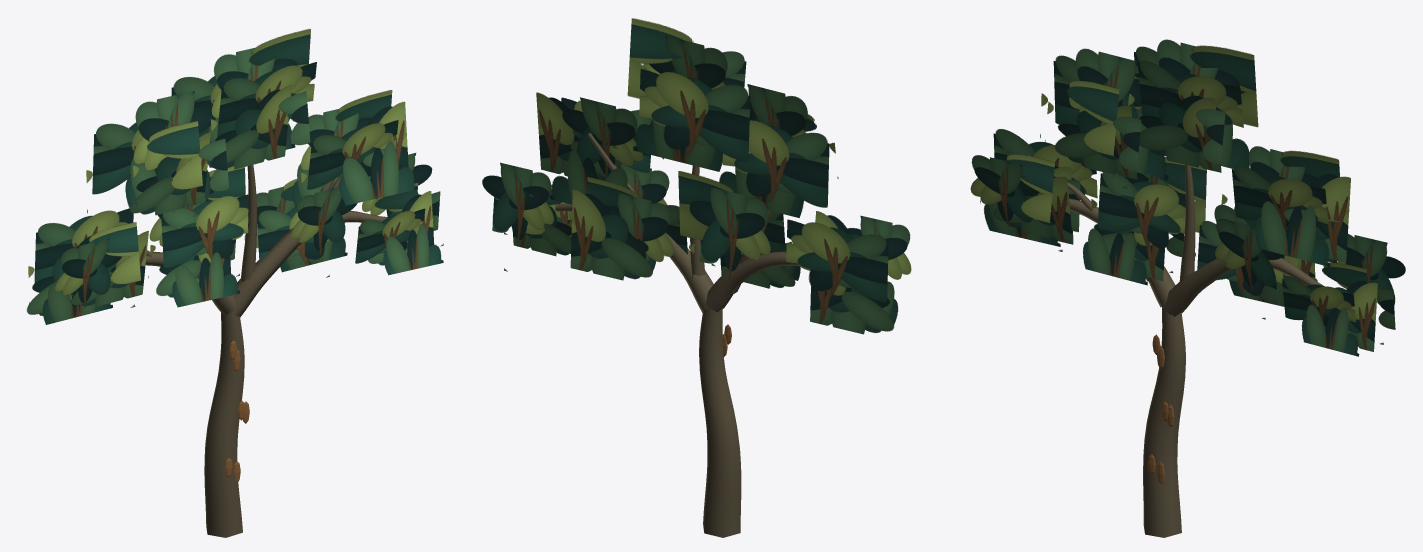
File: TREE_EUCALYPTUS_001_LOD_CLOSE.glb
3 views of the same model, side by side, from view 1: azimuth 30°, elevation 25°; view 2: azimuth 150°, elevation 25°; view 3: azimuth 330°, elevation 25° (orthographic). The views are drawn at different scales.
Parts seen in each view (by area): view 1: GG_EUC_V4_MAIN_TRUNK, GG_EUC_BODY_ISLAND_05_CLUSTER_02, GG_EUC_FRONT_ISLAND_02_CLUSTER_00, GG_EUC_FRONT_ISLAND_03_CLUSTER_01, GG_EUC_FRONT_ISLAND_02_CLUSTER_02, GG_EUC_FRONT_ISLAND_03_CLUSTER_02, GG_EUC_BODY_ISLAND_01_CLUSTER_02, GG_EUC_REAR_ISLAND_00_CLUSTER_02, GG_EUC_FRONT_ISLAND_01_CLUSTER_01, GG_EUC_REAR_ISLAND_01_CLUSTER_01, GG_EUC_FRONT_ISLAND_00_CLUSTER_00, GG_EUC_FRONT_ISLAND_06_CLUSTER_02 (+28 smaller); view 2: GG_EUC_REAR_ISLAND_02_CLUSTER_00, GG_EUC_V4_MAIN_TRUNK, GG_EUC_REAR_ISLAND_00_CLUSTER_02, GG_EUC_REAR_ISLAND_01_CLUSTER_01, GG_EUC_REAR_ISLAND_06_CLUSTER_02, GG_EUC_REAR_ISLAND_05_CLUSTER_01, GG_EUC_BODY_ISLAND_03_CLUSTER_00, GG_EUC_REAR_ISLAND_04_CLUSTER_02, GG_EUC_REAR_ISLAND_00_CLUSTER_00, GG_EUC_BODY_ISLAND_03_CLUSTER_02, GG_EUC_REAR_ISLAND_06_CLUSTER_00, GG_EUC_BODY_ISLAND_02_CLUSTER_02 (+17 smaller); view 3: GG_EUC_V4_MAIN_TRUNK, GG_EUC_BODY_ISLAND_05_CLUSTER_02, GG_EUC_FRONT_ISLAND_02_CLUSTER_00, GG_EUC_FRONT_ISLAND_02_CLUSTER_02, GG_EUC_FRONT_ISLAND_03_CLUSTER_01, GG_EUC_FRONT_ISLAND_03_CLUSTER_02, GG_EUC_FRONT_ISLAND_00_CLUSTER_00, GG_EUC_FRONT_ISLAND_06_CLUSTER_02, GG_EUC_FRONT_ISLAND_01_CLUSTER_01, GG_EUC_BODY_ISLAND_01_CLUSTER_02, GG_EUC_FRONT_ISLAND_01_CLUSTER_00, GG_EUC_BODY_ISLAND_02_CLUSTER_02 (+26 smaller).
Part boxes in pixels (x1,y1,x2,y2): GG_EUC_V4_MAIN_TRUNK: [204, 312, 244, 537]; GG_EUC_BODY_ISLAND_05_CLUSTER_02: [161, 194, 248, 267]; GG_EUC_FRONT_ISLAND_02_CLUSTER_00: [208, 85, 291, 169]; GG_EUC_FRONT_ISLAND_03_CLUSTER_01: [307, 120, 398, 189]; GG_EUC_FRONT_ISLAND_02_CLUSTER_02: [217, 62, 316, 137]; GG_EUC_FRONT_ISLAND_03_CLUSTER_02: [339, 141, 417, 205]; GG_EUC_BODY_ISLAND_01_CLUSTER_02: [133, 90, 215, 170]; GG_EUC_REAR_ISLAND_00_CLUSTER_02: [34, 208, 133, 283]; GG_EUC_FRONT_ISLAND_01_CLUSTER_01: [129, 132, 210, 215]; GG_EUC_REAR_ISLAND_01_CLUSTER_01: [92, 122, 156, 194]; GG_EUC_FRONT_ISLAND_00_CLUSTER_00: [55, 238, 122, 308]; GG_EUC_FRONT_ISLAND_06_CLUSTER_02: [290, 186, 357, 255]; GG_EUC_REAR_ISLAND_02_CLUSTER_00: [639, 69, 750, 161]; GG_EUC_V4_MAIN_TRUNK: [699, 308, 741, 537]; GG_EUC_REAR_ISLAND_00_CLUSTER_02: [786, 219, 888, 302]; GG_EUC_REAR_ISLAND_01_CLUSTER_01: [722, 120, 829, 207]; GG_EUC_REAR_ISLAND_06_CLUSTER_02: [570, 189, 652, 280]; GG_EUC_REAR_ISLAND_05_CLUSTER_01: [689, 187, 770, 278]; GG_EUC_BODY_ISLAND_03_CLUSTER_00: [562, 97, 643, 178]; GG_EUC_REAR_ISLAND_04_CLUSTER_02: [482, 162, 553, 246]; GG_EUC_REAR_ISLAND_00_CLUSTER_00: [810, 285, 894, 334]; GG_EUC_BODY_ISLAND_03_CLUSTER_02: [536, 92, 621, 180]; GG_EUC_REAR_ISLAND_06_CLUSTER_00: [605, 192, 673, 279]; GG_EUC_BODY_ISLAND_02_CLUSTER_02: [627, 18, 693, 98]; GG_EUC_V4_MAIN_TRUNK: [1143, 306, 1185, 537]; GG_EUC_BODY_ISLAND_05_CLUSTER_02: [1097, 172, 1185, 248]; GG_EUC_FRONT_ISLAND_02_CLUSTER_00: [1139, 95, 1221, 172]; GG_EUC_FRONT_ISLAND_02_CLUSTER_02: [1138, 61, 1243, 127]; GG_EUC_FRONT_ISLAND_03_CLUSTER_01: [1232, 165, 1328, 232]; GG_EUC_FRONT_ISLAND_03_CLUSTER_02: [1255, 201, 1330, 266]; GG_EUC_FRONT_ISLAND_00_CLUSTER_00: [970, 155, 1039, 227]; GG_EUC_FRONT_ISLAND_06_CLUSTER_02: [1215, 219, 1283, 292]; GG_EUC_FRONT_ISLAND_01_CLUSTER_01: [1054, 105, 1137, 179]; GG_EUC_BODY_ISLAND_01_CLUSTER_02: [1069, 48, 1141, 118]; GG_EUC_FRONT_ISLAND_01_CLUSTER_00: [1066, 80, 1119, 156]; GG_EUC_BODY_ISLAND_02_CLUSTER_02: [1190, 45, 1258, 127].
Bounding box in the file's own units: 6.46 × 7.16 × 0.8615.
Materials: 3 (1 with a texture image).
